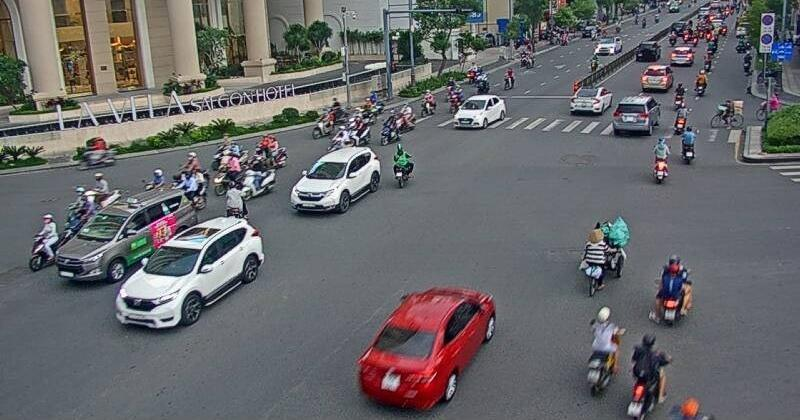xe dap: (710, 98, 745, 130)
xe hoi: (357, 286, 496, 408), (116, 216, 264, 327), (55, 190, 195, 281), (290, 145, 381, 213), (611, 95, 661, 136), (454, 95, 506, 129), (569, 87, 614, 113)
xe may: (584, 305, 625, 397), (649, 254, 692, 324), (240, 157, 276, 201), (392, 142, 415, 189), (651, 135, 670, 184), (679, 125, 697, 166)
